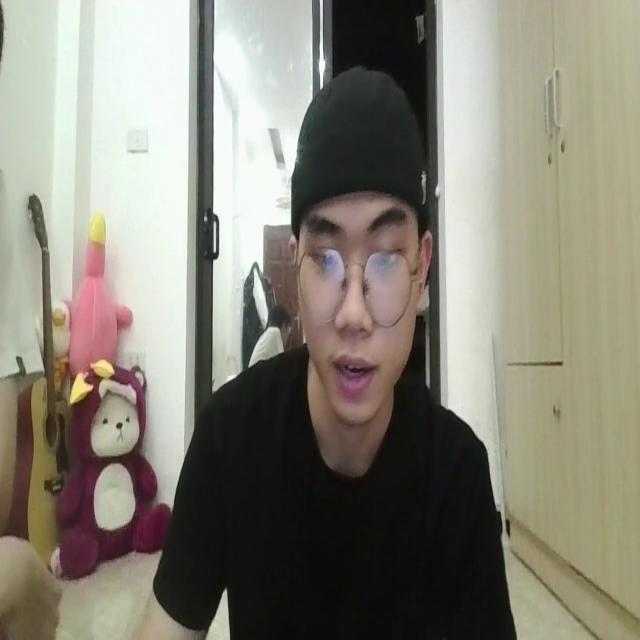student: (146, 58, 526, 640)
